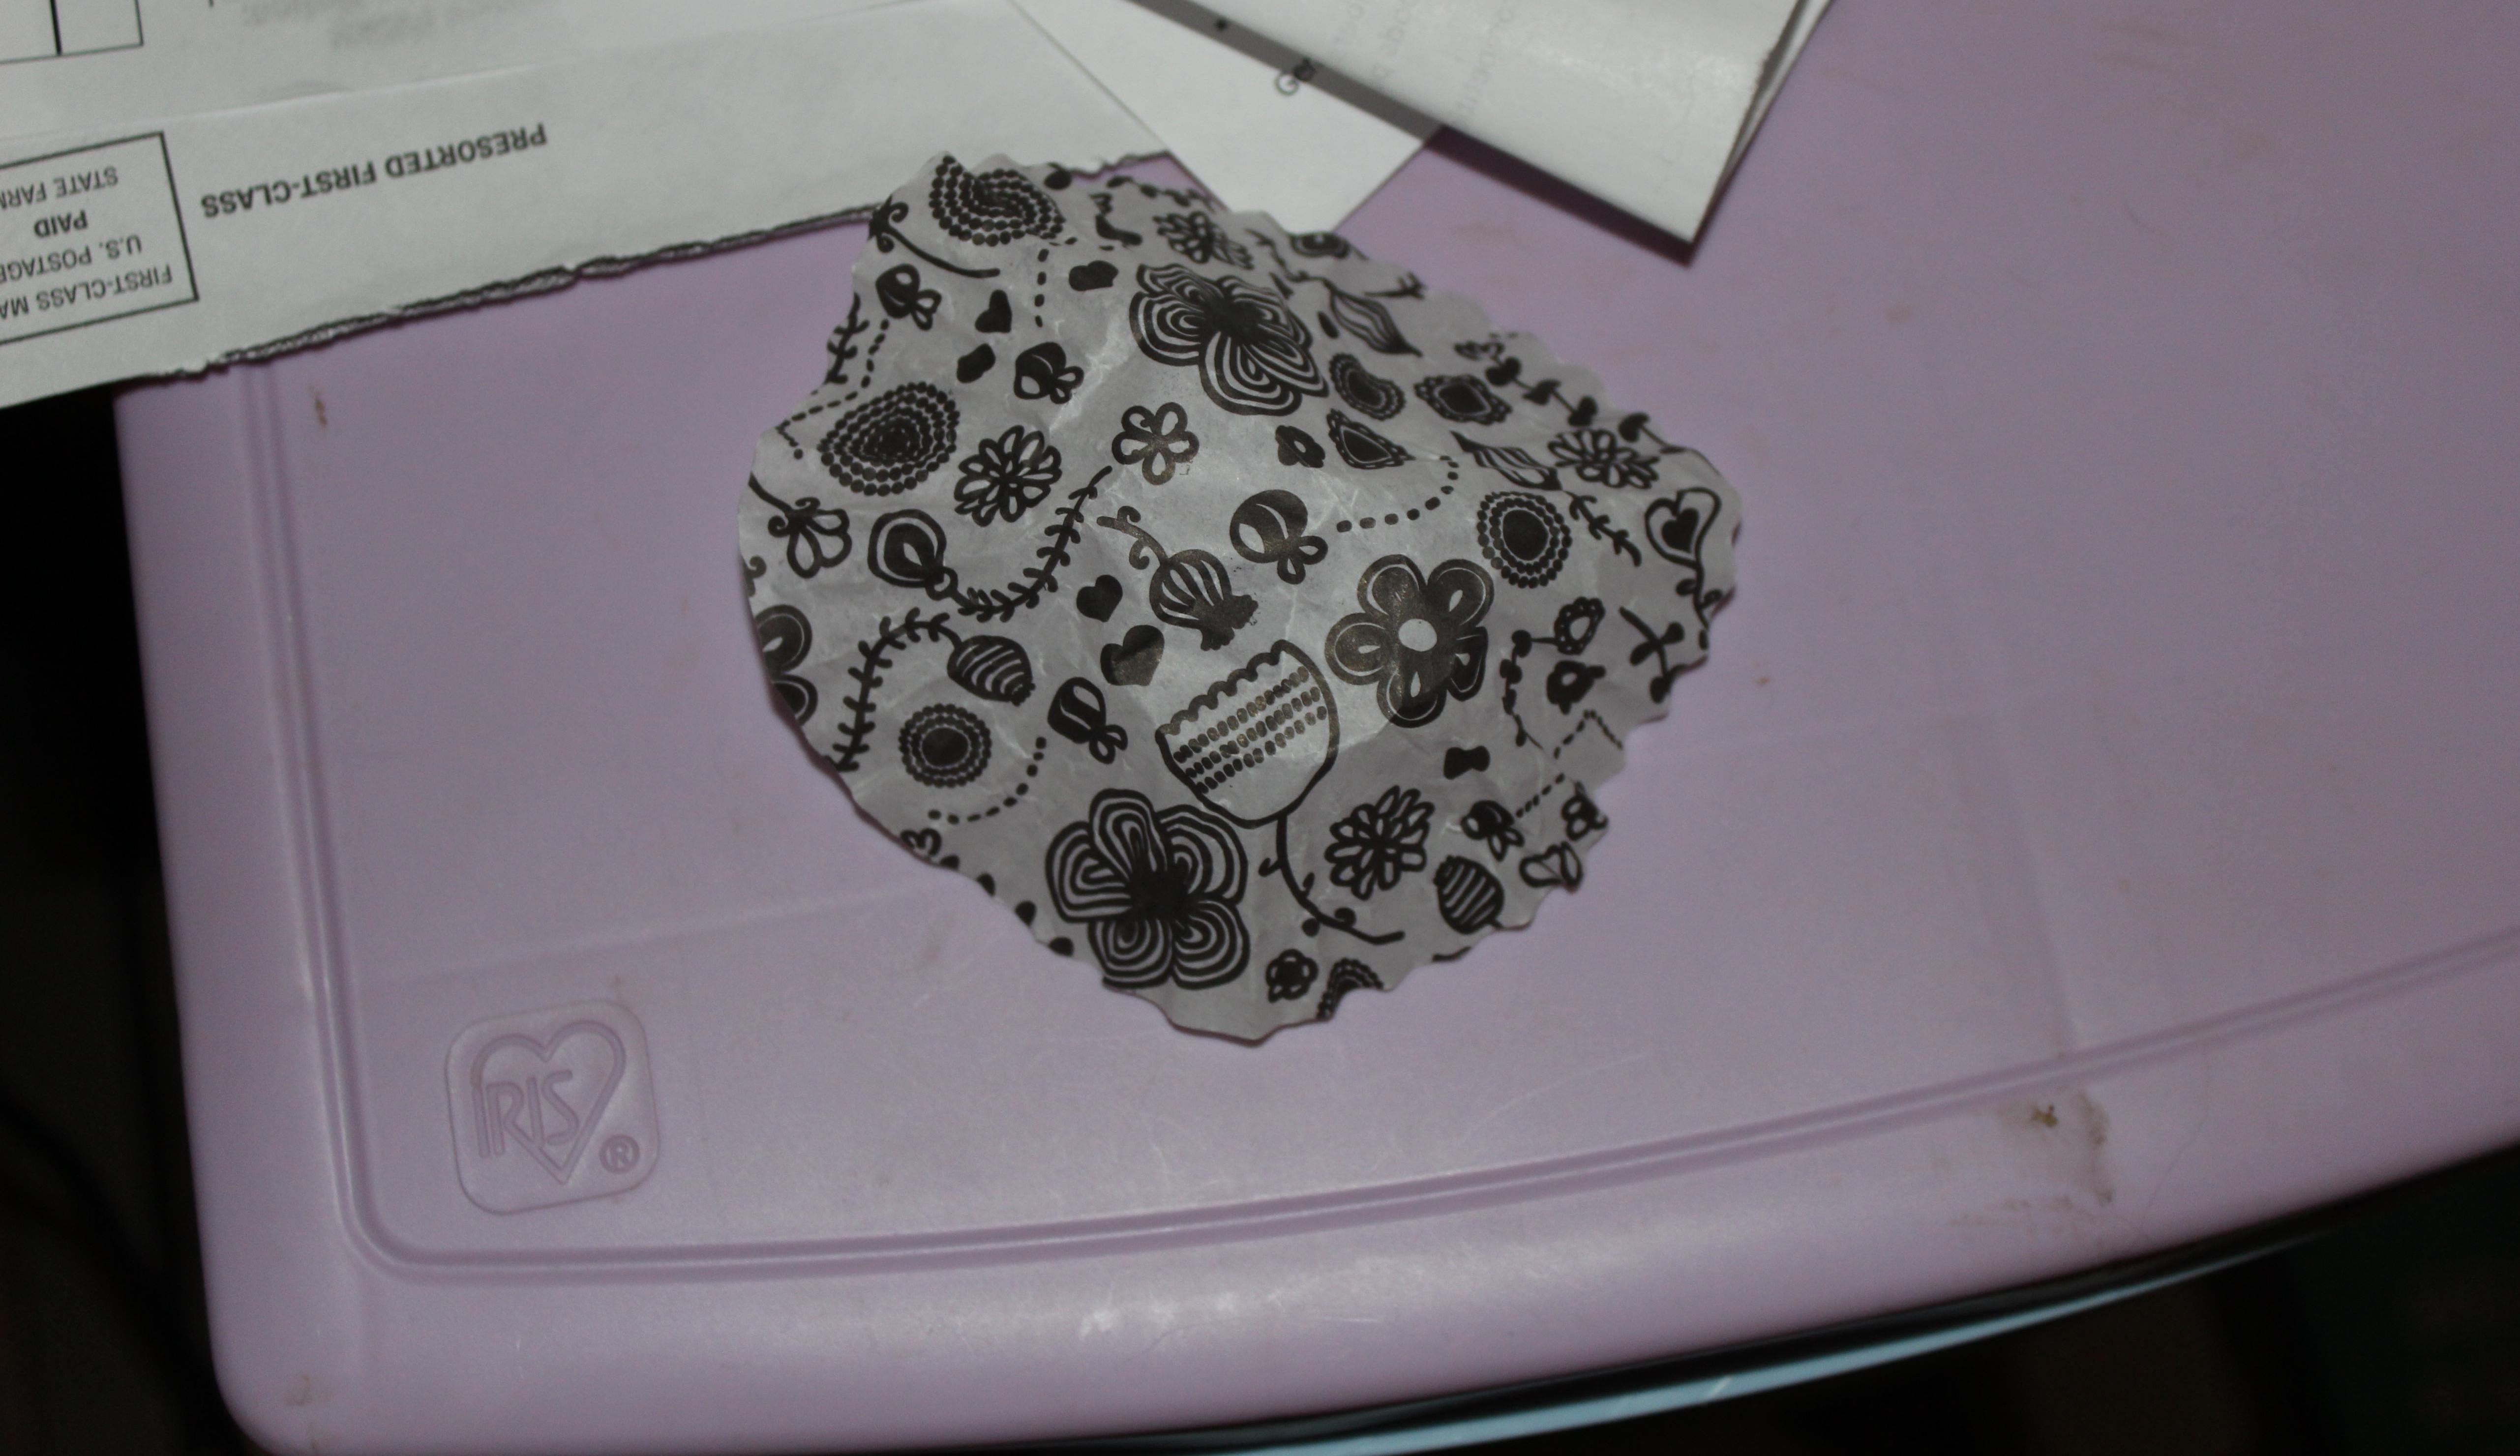cupcakePaper: (718, 130, 1780, 1075)
